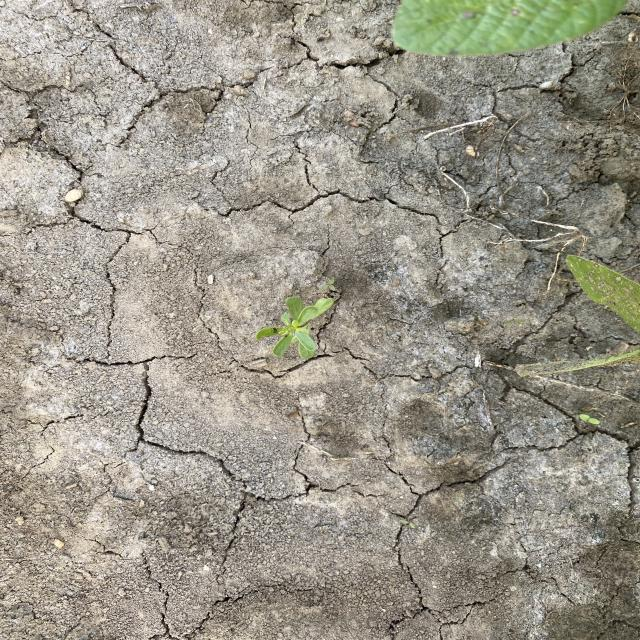Purslane: (256, 295, 336, 361)
